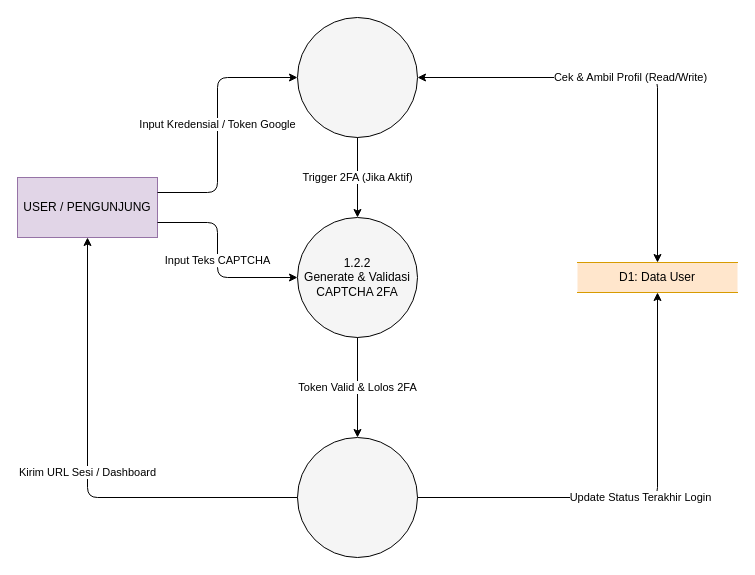
The diagram is 755 pixels wide and 575 high, and some of its shapes have lost their labels. Each missing label, with the centre of its shape:
"1.2.1 Validasi Kredensial (Email/Password/Google)" belongs at point 357,77.
"1.2.3 Otentikasi & Pemberian Sesi" belongs at point 357,497.
